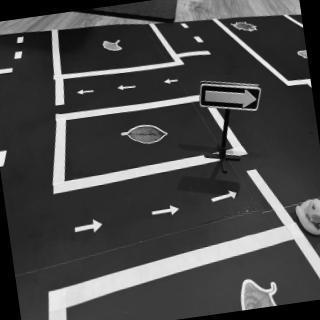duck_regular: (293, 195, 320, 240)
road_oneway: (150, 202, 185, 224), (72, 217, 106, 239), (209, 187, 242, 208), (116, 82, 140, 95), (75, 87, 97, 99), (163, 76, 182, 88)
sign_oneway_right: (196, 72, 266, 120)
